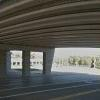Bridge: (2, 4, 97, 56)
